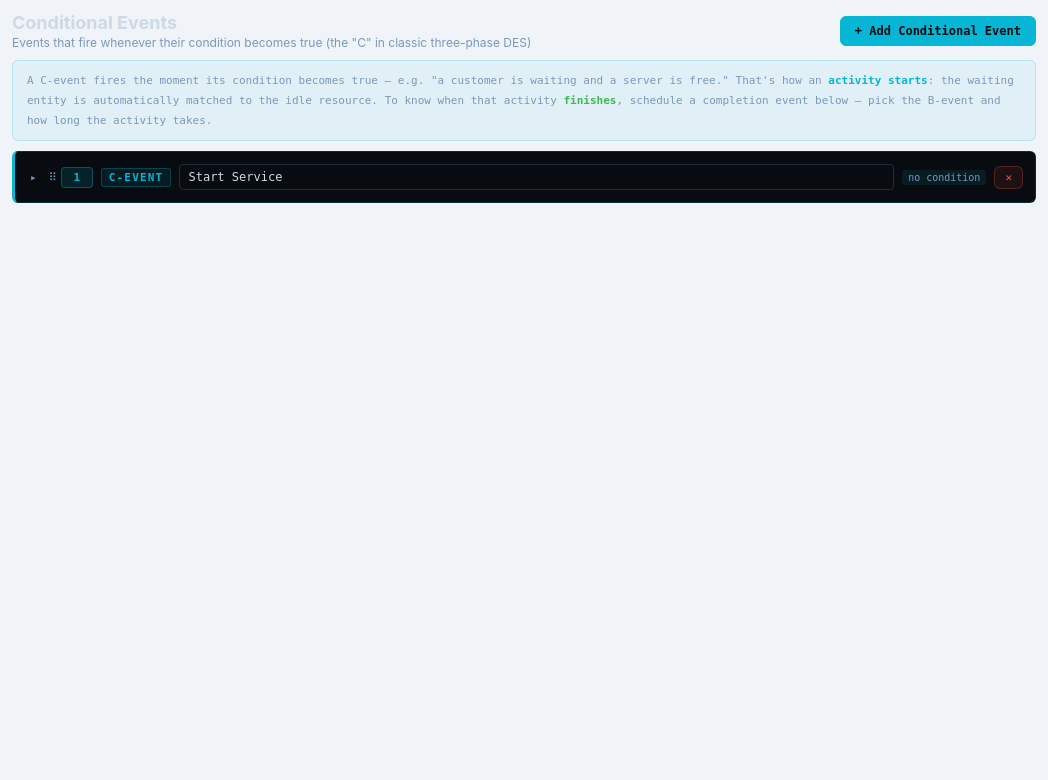
CEventEditor — inline B-event creation from a schedule row › cancels the inline creation flow and reverts to the selector
The width and height of the screenshot is (1048, 780).
Click the button named "Expand". click: (33, 177)
box: [27,170,40,185]
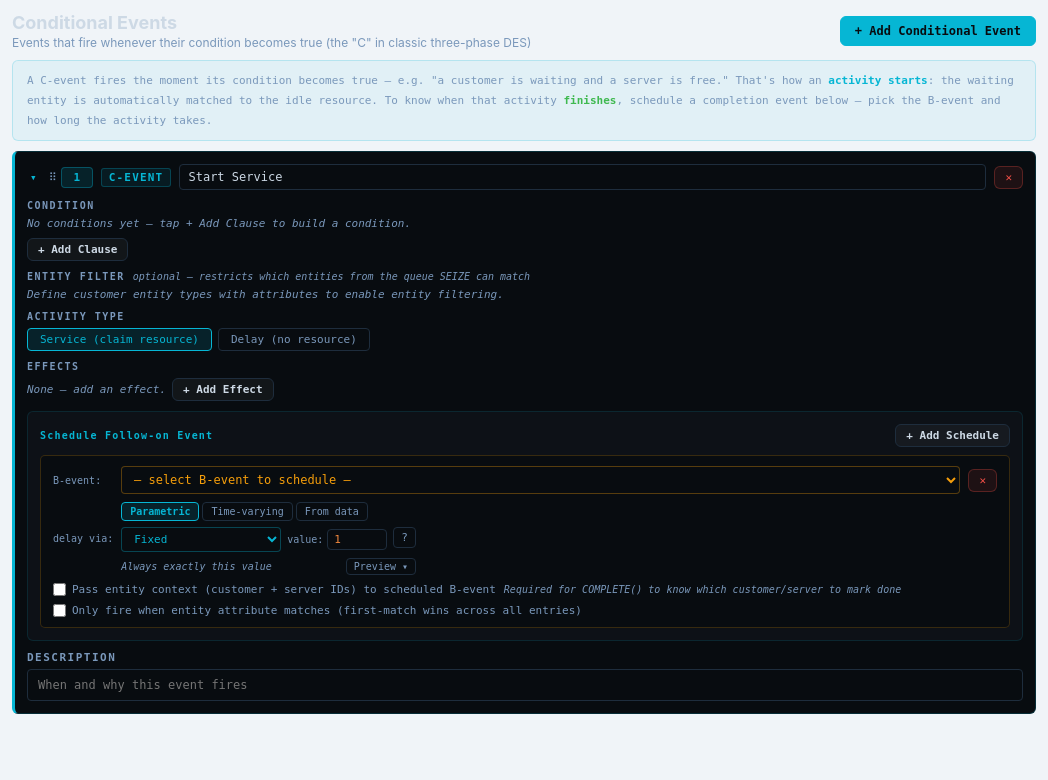
Select "+ Create new B-event…" in the dropdown named "B-event to schedule". click: (541, 480)
box: [121,466,960,494]
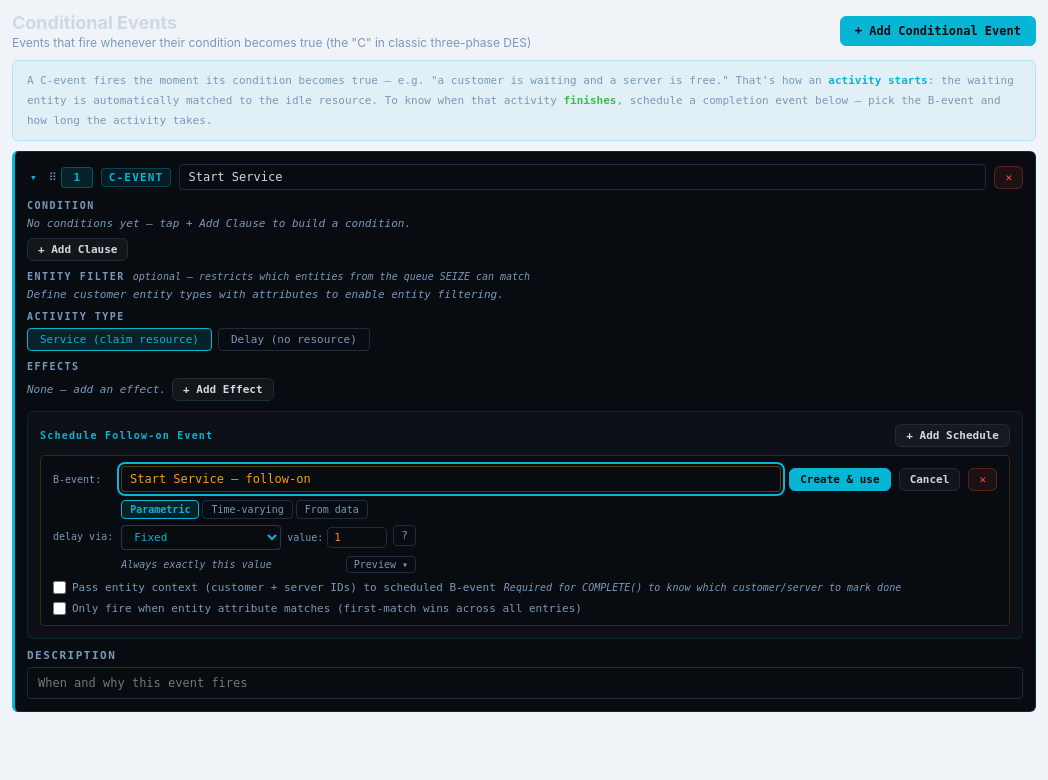
Expected: the field named "New B-event name" is shown, [121,466,781,492]
Click the button "Cancel". click: (930, 479)
box: [899,468,960,491]
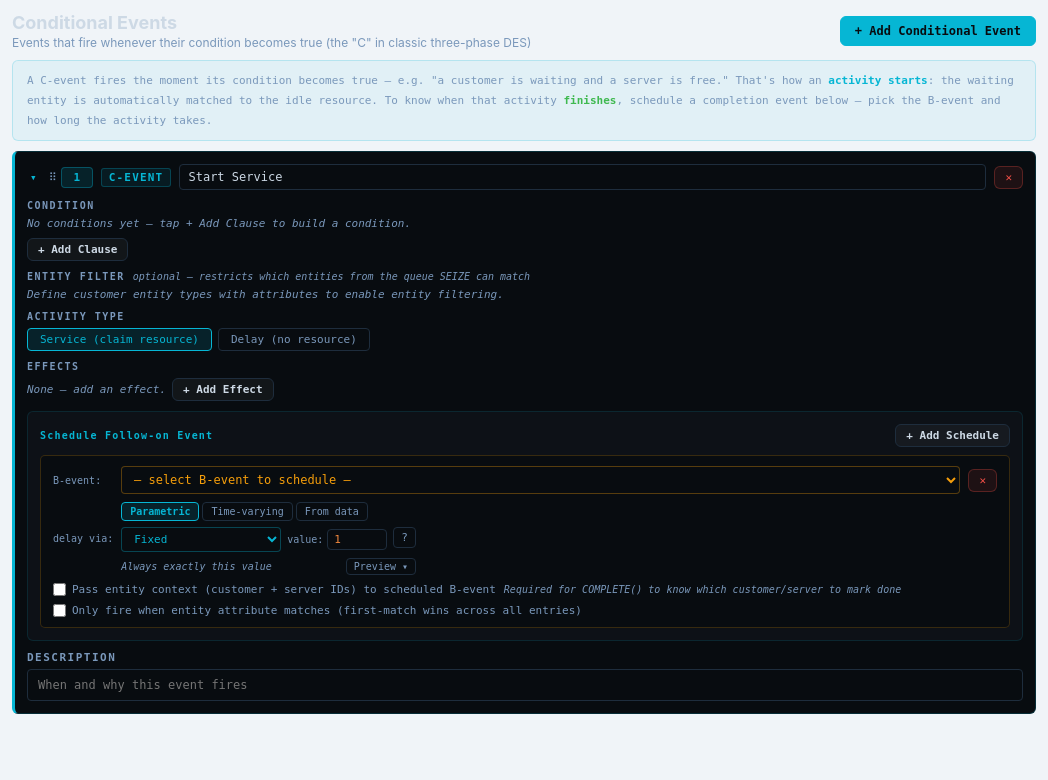
Expected: the dropdown named "B-event to schedule" is shown, [121,466,960,494]
